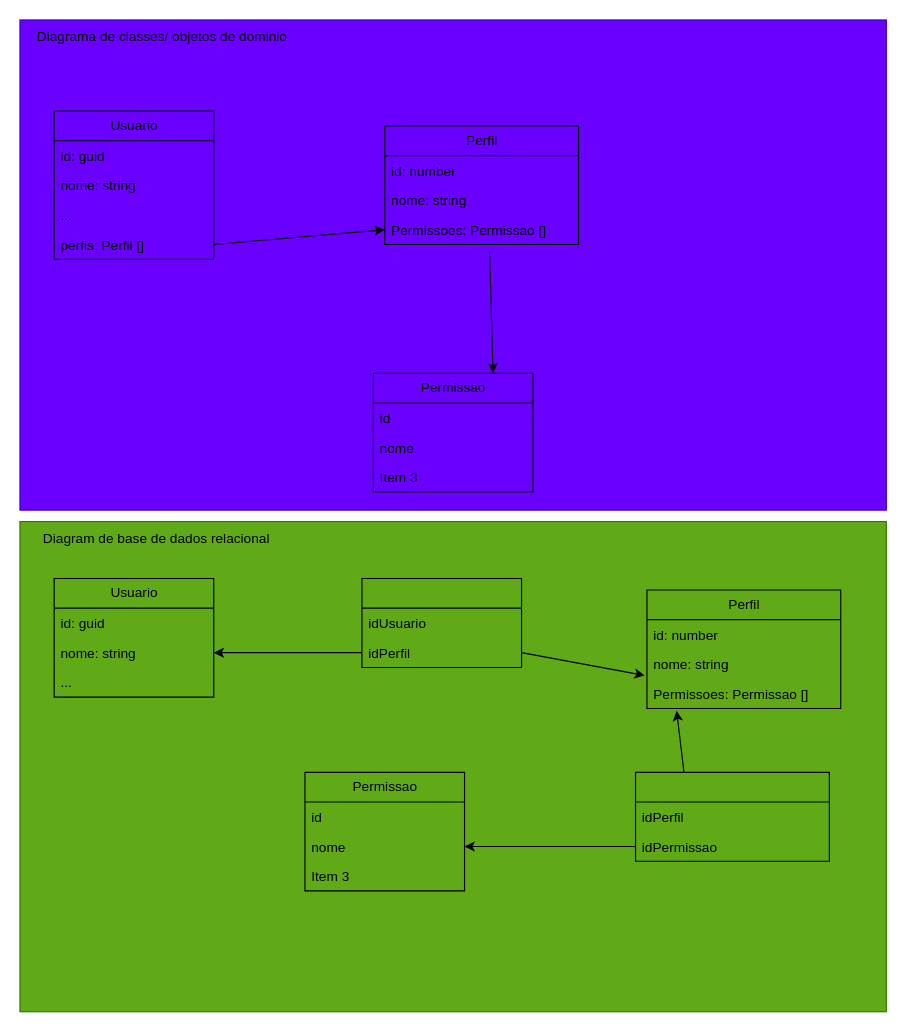
The diagram is 906 pixels wide and 1032 high, and some of its shapes have lost their labels. The shapes that lost their labels are listed below. From the top down, each one's box as (x1, y1, x2, y2) in pixels, then its label:
(361, 577, 522, 667): UsuarioPerfil
(634, 771, 829, 861): PerfilPermissao
